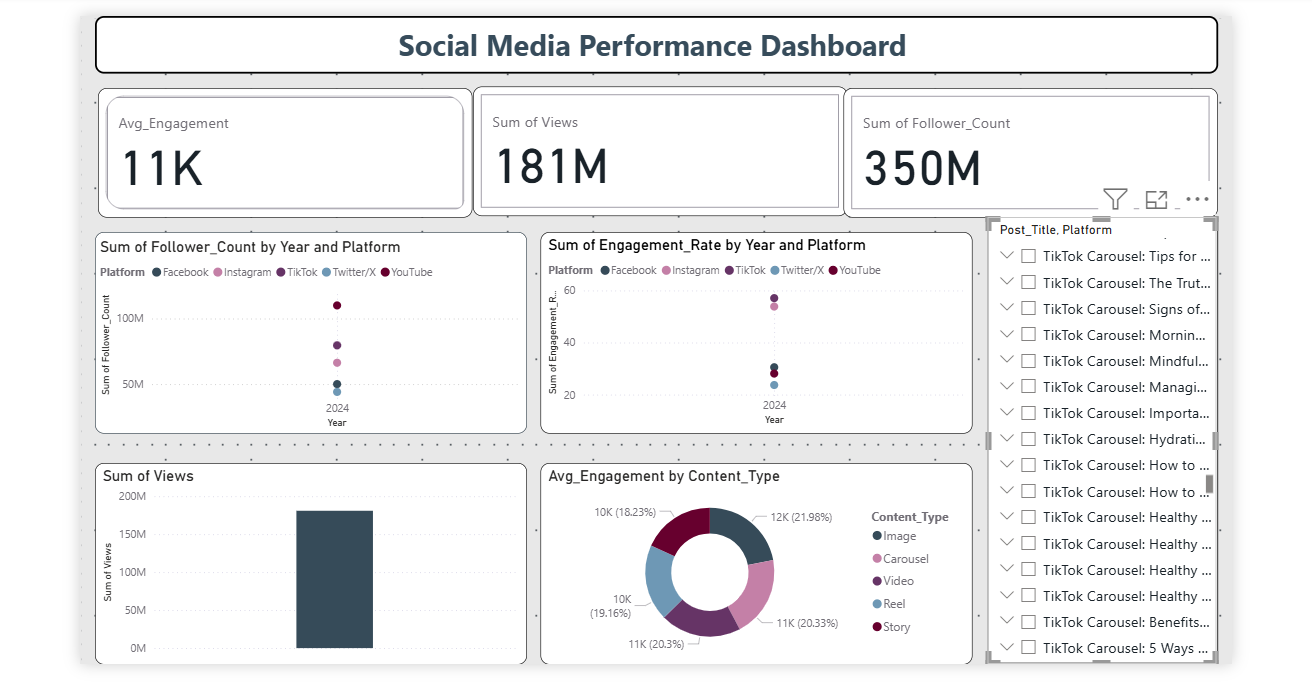

What the dashboard file says about the page in this screenshot:
{"tool":"powerbi","page":{"name":"Page 1","canvas":[1280,720],"ordinal":0},"visuals":[{"type":"lineChart","fields":{"Category":["Sheet1.Date.Variation.Date Hierarchy.Year","Sheet1.Date.Variation.Date Hierarchy.Quarter","Sheet1.Date.Variation.Date Hierarchy.Month","Sheet1.Date.Variation.Date Hierarchy.Day"],"Y":["Sum(Sheet1.Engagement_Rate)"],"Series":["Sheet1.Platform"]},"box":[512,240,480,224],"z":0},{"type":"slicer","fields":{"Values":["Sheet1.Post_Title","Sheet1.Platform"]},"box":[1008,224,256,496],"z":1000},{"type":"clusteredColumnChart","fields":{"Y":["Sum(Sheet1.Views)"]},"box":[16,496,480,224],"z":2000},{"type":"donutChart","fields":{"Category":["Sheet1.Content_Type"],"Y":["Sheet1.Engagement"]},"box":[512,496,480,224],"z":3000},{"type":"lineChart","fields":{"Category":["Sheet1.Date.Variation.Date Hierarchy.Year","Sheet1.Date.Variation.Date Hierarchy.Quarter","Sheet1.Date.Variation.Date Hierarchy.Month","Sheet1.Date.Variation.Date Hierarchy.Day"],"Y":["Sum(Sheet1.Follower_Count)"],"Series":["Sheet1.Platform"]},"box":[16,240,480,224],"z":4000},{"type":"cardVisual","fields":{"Data":["Sheet1.Engagement"]},"box":[20.3,79.5,416,144],"z":5000},{"type":"cardVisual","fields":{"Data":["Sum(Sheet1.Views)"]},"box":[436.3,78.4,416,144],"z":6000},{"type":"cardVisual","fields":{"Data":["Sum(Sheet1.Follower_Count)"]},"box":[848,80,416,144],"z":7000},{"type":"textbox","box":[16,0,1248,64],"z":8000}]}

Visuals, with their boxes in screenshot pixels (x1, y1, x2, y2):
lineChart - Sheet1.Date.Variation.Date Hierarchy.Year x Sheet1.Date.Variation.Date Hierarchy.Quarter: {"left": 537, "top": 227, "right": 971, "bottom": 429}
slicer - Sheet1.Post_Title x Sheet1.Platform: {"left": 985, "top": 212, "right": 1216, "bottom": 660}
clusteredColumnChart - Sum(Sheet1.Views): {"left": 90, "top": 458, "right": 523, "bottom": 660}
donutChart - Sheet1.Content_Type x Sheet1.Engagement: {"left": 537, "top": 458, "right": 971, "bottom": 660}
lineChart - Sheet1.Date.Variation.Date Hierarchy.Year x Sheet1.Date.Variation.Date Hierarchy.Quarter: {"left": 90, "top": 227, "right": 523, "bottom": 429}
cardVisual - Sheet1.Engagement: {"left": 93, "top": 82, "right": 469, "bottom": 212}
cardVisual - Sum(Sheet1.Views): {"left": 469, "top": 81, "right": 845, "bottom": 211}
cardVisual - Sum(Sheet1.Follower_Count): {"left": 841, "top": 82, "right": 1216, "bottom": 212}
textbox: {"left": 90, "top": 10, "right": 1216, "bottom": 68}
